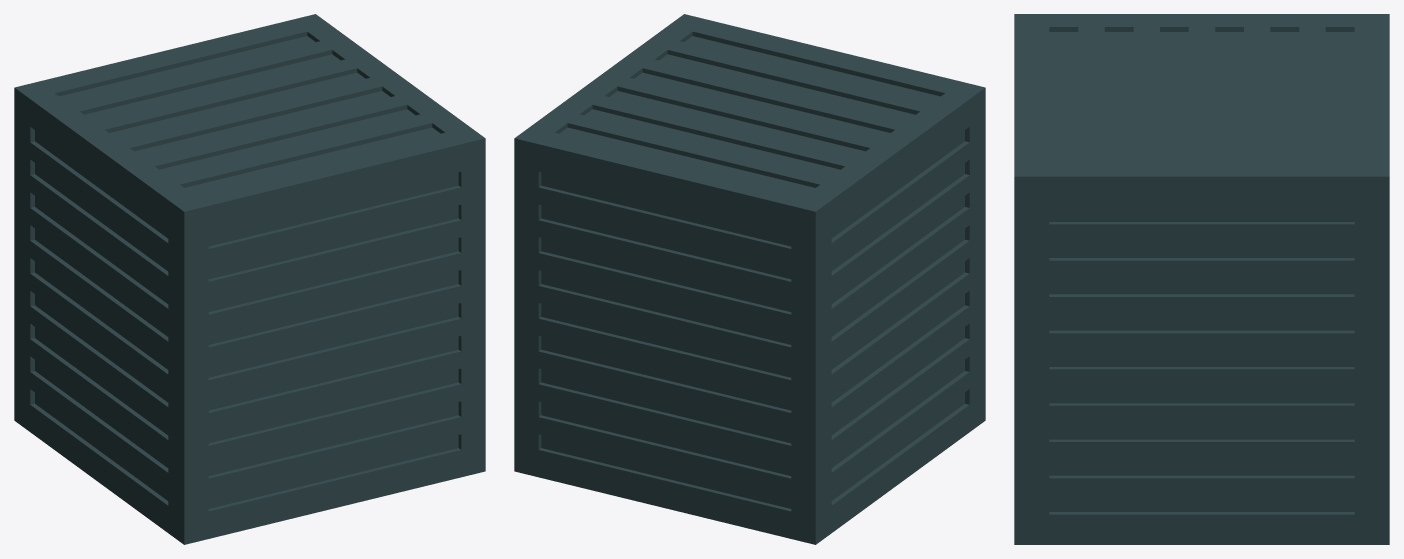
The model's file is OT_200_blue_wooden_box.glb.
The picture shows the model from 3 angles, left to right: view 1: azimuth 30°, elevation 25°; view 2: azimuth 150°, elevation 25°; view 3: azimuth 270°, elevation 25°; orthographic projection. The views are drawn at different scales.
Parts seen in each view (by area): view 1: box; view 2: box; view 3: box.
Boxes of the visible parts, x1,y1,x2,y2 form: box: [14, 14, 485, 544]; box: [514, 14, 985, 544]; box: [1014, 14, 1389, 544].
Bounding box in the file's own units: 1.42 × 1.5 × 1.39.
